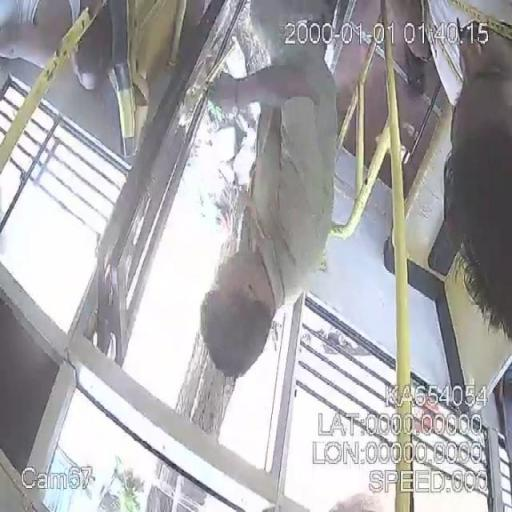persona: (192, 2, 342, 380), (422, 0, 512, 342), (0, 0, 114, 90)
